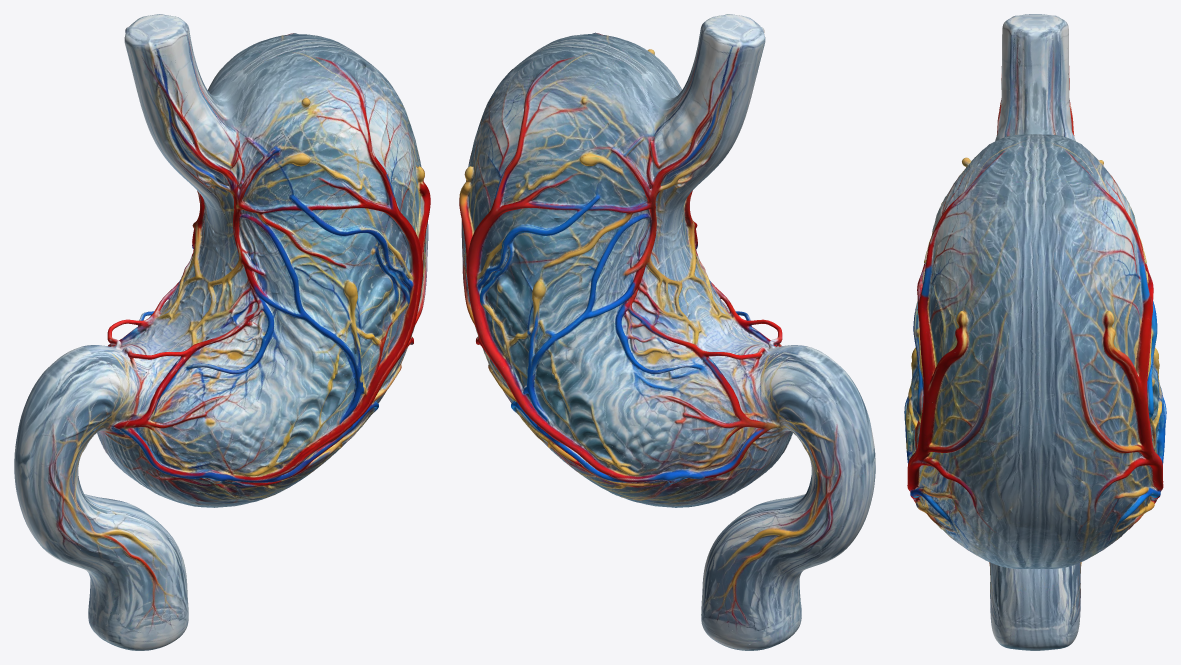
Rendered from stomach.glb.
3 renders of one model, left to right at view 1: azimuth 30°, elevation 25°; view 2: azimuth 150°, elevation 25°; view 3: azimuth 270°, elevation 25°, orthographic. The views are drawn at different scales.
Visible parts, largest first — view 1: Mesh_0.002; view 2: Mesh_0.002; view 3: Mesh_0.002.
Part boxes in pixels (box(x1,y1,x2,y2)): Mesh_0.002: box(14, 14, 430, 650); Mesh_0.002: box(459, 14, 875, 650); Mesh_0.002: box(904, 14, 1166, 650).
Bounding box in the file's own units: 1.27 × 1.9 × 0.715.
Materials: 1 (1 with a texture image).
